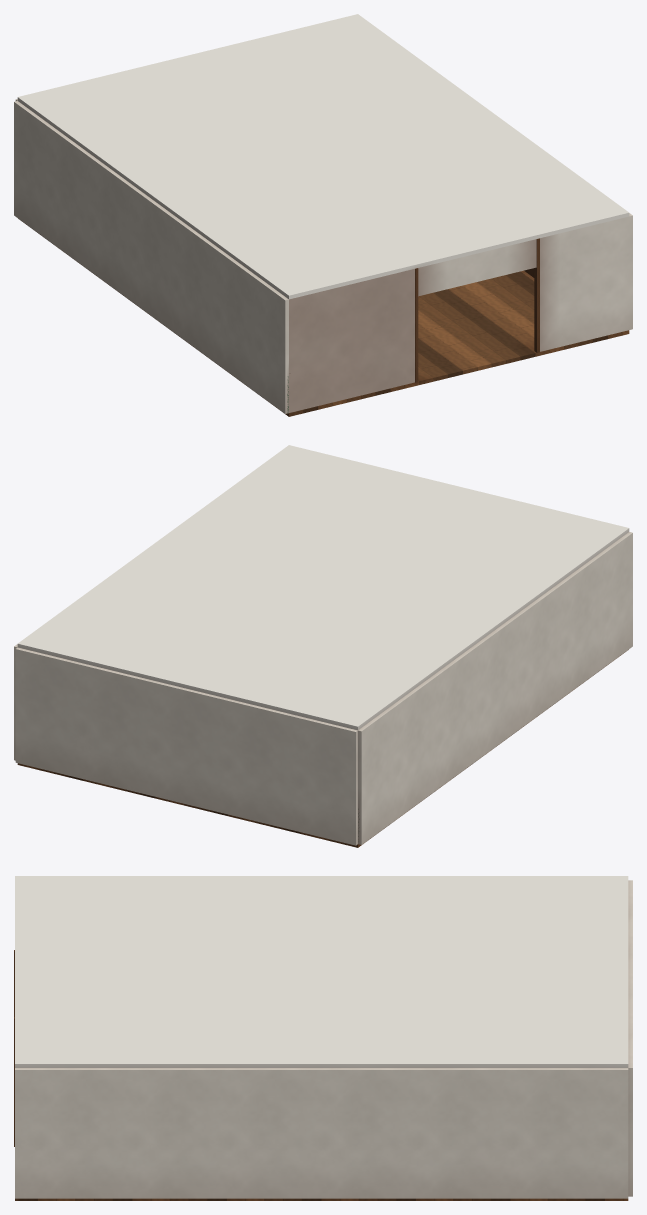
Rendered from fp-dining.gltf.
3 views of the same model, one above another, from view 1: azimuth 30°, elevation 25°; view 2: azimuth 150°, elevation 25°; view 3: azimuth 270°, elevation 25° (orthographic). The views are drawn at different scales.
Visible parts, largest first — view 1: model; view 2: model; view 3: model.
Part boxes in pixels (<box>): model: <box>14,14,632,416</box>; model: <box>14,445,632,847</box>; model: <box>14,876,632,1200</box>.
Size of the model in its own units: 9.6 by 3.2 by 13.1.
25 materials, 3 textured.
